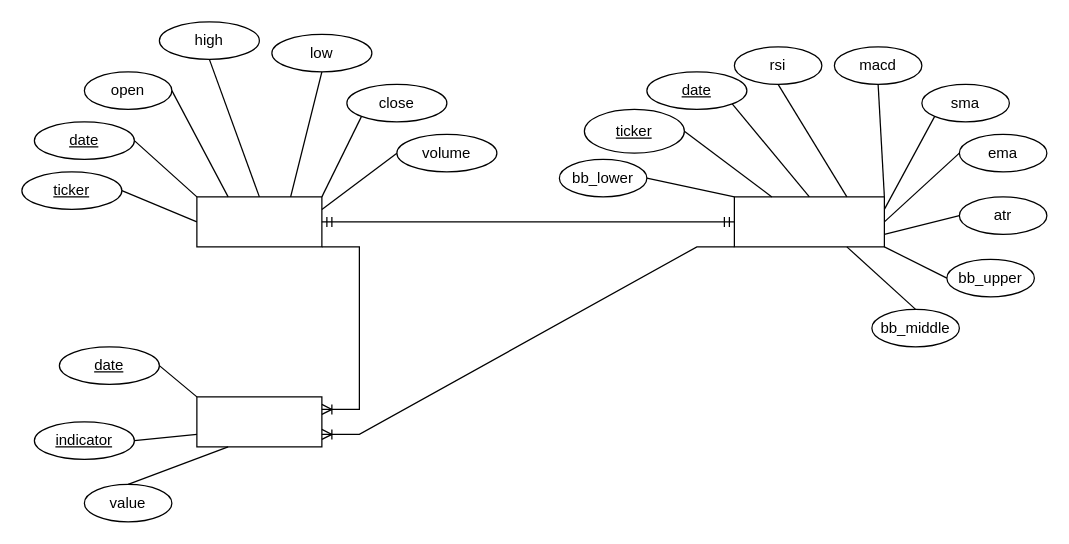
Some shapes in this 1069 by 544 pixel diagram are drawn without their labels. Here are the shapes that lost their labels. From the top down, the centre of each, then its label:
At pixel 259 221: "stock_data".
At pixel 808 221: "technical_indicators".
At pixel 259 421: "macro_indicators".
